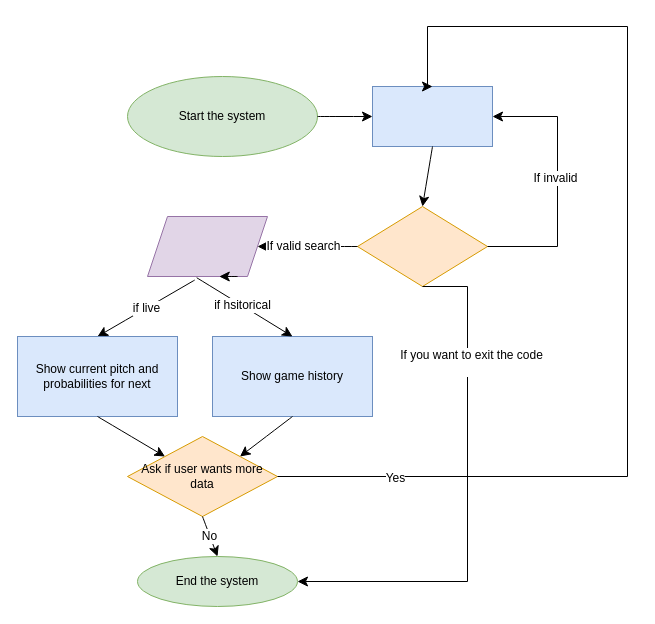
The diagram is 655 pixels wide and 624 high, and some of its shapes have lost their labels. The shapes that lost their labels are listed below. From the top down, each one's centre as x and y in pixels, then its label:
At [432,116]: "Search a Pitcher and/or date (Read User input)".
At [207,246]: "Display historical or live output".
At [422,246]: "Read input".
